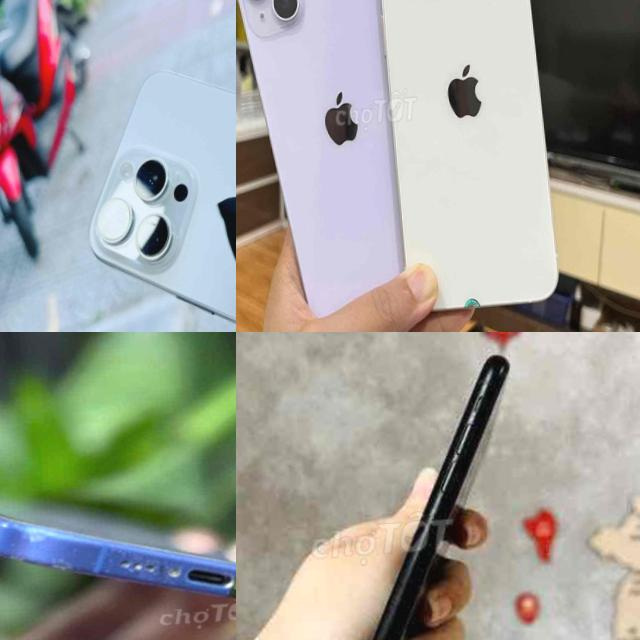gen_14: (368, 0, 566, 321)
gen_15: (71, 43, 236, 332)
gen_16: (0, 516, 236, 601)
gen_x_xs: (285, 346, 551, 640)
